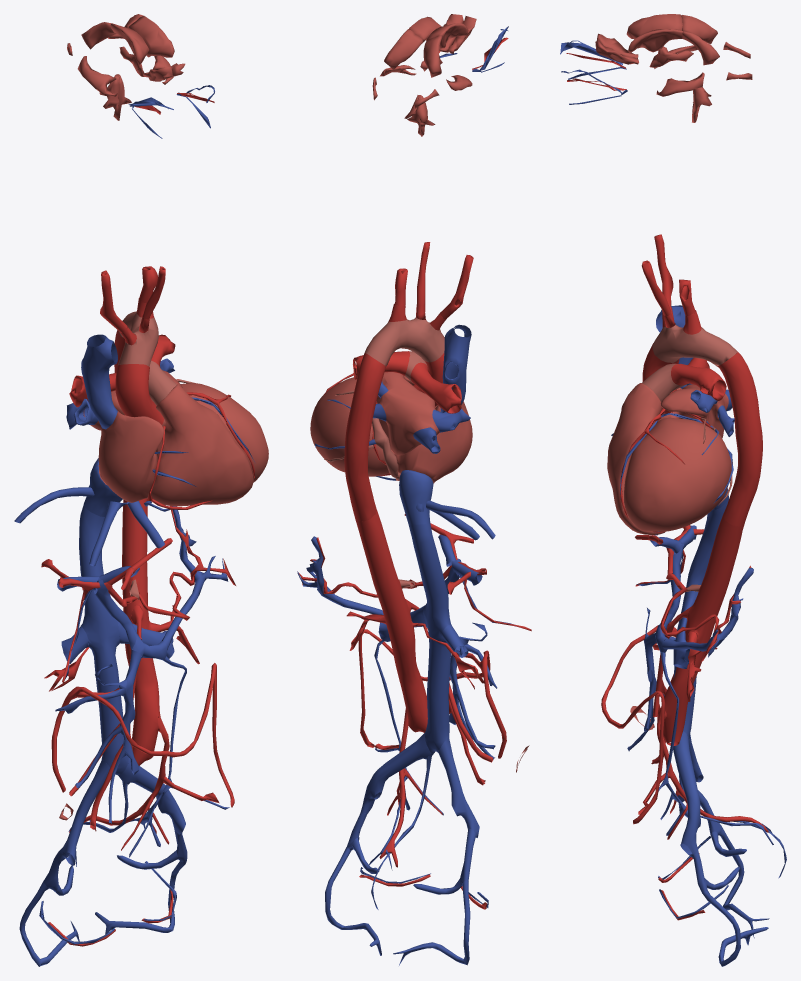
Rendered from adult_female.cardiovascular.LOD4.glb.
The picture shows the model from 3 angles, left to right: view 1: azimuth 30°, elevation 25°; view 2: azimuth 150°, elevation 25°; view 3: azimuth 270°, elevation 25°; orthographic projection. The views are drawn at different scales.
Visible parts, largest first — view 1: ADULT.FEMALE.CARDIOVASCULAR.RIGHT_VENTRICLE, ADULT.FEMALE.CARDIOVASCULAR.INFERIOR_VENA_CAVA_B, ADULT.FEMALE.CARDIOVASCULAR.DESCENDING_AORTA_B, ADULT.FEMALE.CARDIOVASCULAR.RIGHT_CARDIAC_ATRIUM, ADULT.FEMALE.CARDIOVASCULAR.SUPERIOR_VENA_CAVA, ADULT.FEMALE.CARDIOVASCULAR.LEFT_VENTRICLE, ADULT.FEMALE.CARDIOVASCULAR.MARGINAL_ARTERY_OF_DRUMMOND, ADULT.FEMALE.CARDIOVASCULAR.ASCENDING_AORTA, ADULT.FEMALE.CARDIOVASCULAR.SPLENIC_VEIN, ADULT.FEMALE.CARDIOVASCULAR.ANTERIOR_HORN_OF_LATERAL_VENTRIC (×2), ADULT.FEMALE.CARDIOVASCULAR.AORTIC_ARCH, ADULT.FEMALE.CARDIOVASCULAR.COMMON_ILIAC_VEIN.L (+15 smaller); view 2: ADULT.FEMALE.CARDIOVASCULAR.DESCENDING_AORTA_B, ADULT.FEMALE.CARDIOVASCULAR.INFERIOR_VENA_CAVA_B, ADULT.FEMALE.CARDIOVASCULAR.DESCENDING_AORTA_A, ADULT.FEMALE.CARDIOVASCULAR.LEFT_CARDIAC_ATRIUM, ADULT.FEMALE.CARDIOVASCULAR.LEFT_VENTRICLE, ADULT.FEMALE.CARDIOVASCULAR.RIGHT_CARDIAC_ATRIUM, ADULT.FEMALE.CARDIOVASCULAR.AORTIC_ARCH, ADULT.FEMALE.CARDIOVASCULAR.INFERIOR_VENA_CAVA_A, ADULT.FEMALE.CARDIOVASCULAR.SUPERIOR_VENA_CAVA, ADULT.FEMALE.CARDIOVASCULAR.COMMON_ILIAC_VEIN.L, ADULT.FEMALE.CARDIOVASCULAR.MARGINAL_ARTERY_OF_DRUMMOND, ADULT.FEMALE.CARDIOVASCULAR.PULMONARY_ARTERY.R (+11 smaller); view 3: ADULT.FEMALE.CARDIOVASCULAR.LEFT_VENTRICLE, ADULT.FEMALE.CARDIOVASCULAR.DESCENDING_AORTA_B, ADULT.FEMALE.CARDIOVASCULAR.DESCENDING_AORTA_A, ADULT.FEMALE.CARDIOVASCULAR.RIGHT_VENTRICLE, ADULT.FEMALE.CARDIOVASCULAR.AORTIC_ARCH, ADULT.FEMALE.CARDIOVASCULAR.INFERIOR_VENA_CAVA_B, ADULT.FEMALE.CARDIOVASCULAR.COMMON_ILIAC_VEIN.L, ADULT.FEMALE.CARDIOVASCULAR.ANTERIOR_HORN_OF_LATERAL_VENTRIC (×2), ADULT.FEMALE.CARDIOVASCULAR.MARGINAL_ARTERY_OF_DRUMMOND, ADULT.FEMALE.CARDIOVASCULAR.SPLENIC_VEIN, ADULT.FEMALE.CARDIOVASCULAR.LEFT_CARDIAC_ATRIUM, ADULT.FEMALE.CARDIOVASCULAR.PULMONARY_ARTERY.L (+13 smaller).
Part boxes in pixels (<box>): ADULT.FEMALE.CARDIOVASCULAR.RIGHT_VENTRICLE: <box>146,384,253,506</box>; ADULT.FEMALE.CARDIOVASCULAR.INFERIOR_VENA_CAVA_B: <box>79,504,128,775</box>; ADULT.FEMALE.CARDIOVASCULAR.DESCENDING_AORTA_B: <box>122,498,160,765</box>; ADULT.FEMALE.CARDIOVASCULAR.RIGHT_CARDIAC_ATRIUM: <box>98,411,164,502</box>; ADULT.FEMALE.CARDIOVASCULAR.SUPERIOR_VENA_CAVA: <box>81,334,117,429</box>; ADULT.FEMALE.CARDIOVASCULAR.LEFT_VENTRICLE: <box>181,383,268,482</box>; ADULT.FEMALE.CARDIOVASCULAR.MARGINAL_ARTERY_OF_DRUMMOND: <box>51,663,234,807</box>; ADULT.FEMALE.CARDIOVASCULAR.ASCENDING_AORTA: <box>115,364,163,424</box>; ADULT.FEMALE.CARDIOVASCULAR.SPLENIC_VEIN: <box>132,506,228,659</box>; ADULT.FEMALE.CARDIOVASCULAR.ANTERIOR_HORN_OF_LATERAL_VENTRIC (×2): <box>110,15,174,64</box>; ADULT.FEMALE.CARDIOVASCULAR.AORTIC_ARCH: <box>118,311,158,366</box>; ADULT.FEMALE.CARDIOVASCULAR.COMMON_ILIAC_VEIN.L: <box>118,758,185,834</box>; ADULT.FEMALE.CARDIOVASCULAR.DESCENDING_AORTA_B: <box>355,510,427,732</box>; ADULT.FEMALE.CARDIOVASCULAR.INFERIOR_VENA_CAVA_B: <box>408,523,451,753</box>; ADULT.FEMALE.CARDIOVASCULAR.DESCENDING_AORTA_A: <box>344,352,385,521</box>; ADULT.FEMALE.CARDIOVASCULAR.LEFT_CARDIAC_ATRIUM: <box>376,372,439,455</box>; ADULT.FEMALE.CARDIOVASCULAR.LEFT_VENTRICLE: <box>310,377,394,476</box>; ADULT.FEMALE.CARDIOVASCULAR.RIGHT_CARDIAC_ATRIUM: <box>394,401,472,483</box>; ADULT.FEMALE.CARDIOVASCULAR.AORTIC_ARCH: <box>365,317,444,366</box>; ADULT.FEMALE.CARDIOVASCULAR.INFERIOR_VENA_CAVA_A: <box>399,470,433,524</box>; ADULT.FEMALE.CARDIOVASCULAR.SUPERIOR_VENA_CAVA: <box>440,324,471,412</box>; ADULT.FEMALE.CARDIOVASCULAR.COMMON_ILIAC_VEIN.L: <box>360,731,431,813</box>; ADULT.FEMALE.CARDIOVASCULAR.MARGINAL_ARTERY_OF_DRUMMOND: <box>358,629,506,758</box>; ADULT.FEMALE.CARDIOVASCULAR.PULMONARY_ARTERY.R: <box>410,362,461,413</box>; ADULT.FEMALE.CARDIOVASCULAR.LEFT_VENTRICLE: <box>624,417,731,531</box>; ADULT.FEMALE.CARDIOVASCULAR.DESCENDING_AORTA_B: <box>663,515,744,745</box>; ADULT.FEMALE.CARDIOVASCULAR.DESCENDING_AORTA_A: <box>717,352,762,526</box>; ADULT.FEMALE.CARDIOVASCULAR.RIGHT_VENTRICLE: <box>607,383,664,534</box>; ADULT.FEMALE.CARDIOVASCULAR.AORTIC_ARCH: <box>652,324,737,366</box>; ADULT.FEMALE.CARDIOVASCULAR.INFERIOR_VENA_CAVA_B: <box>673,497,728,738</box>; ADULT.FEMALE.CARDIOVASCULAR.COMMON_ILIAC_VEIN.L: <box>673,731,700,854</box>; ADULT.FEMALE.CARDIOVASCULAR.ANTERIOR_HORN_OF_LATERAL_VENTRIC (×2): <box>626,14,683,52</box>; ADULT.FEMALE.CARDIOVASCULAR.MARGINAL_ARTERY_OF_DRUMMOND: <box>601,625,676,824</box>; ADULT.FEMALE.CARDIOVASCULAR.SPLENIC_VEIN: <box>655,567,753,657</box>; ADULT.FEMALE.CARDIOVASCULAR.LEFT_CARDIAC_ATRIUM: <box>660,384,728,437</box>; ADULT.FEMALE.CARDIOVASCULAR.PULMONARY_ARTERY.L: <box>671,363,726,400</box>.
Size of the model in its own units: 0.197 by 0.829 by 0.1848.
